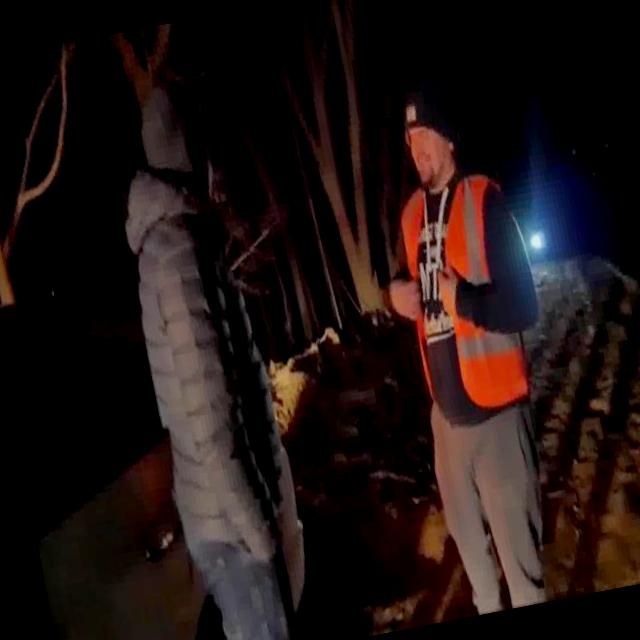vest: (388, 170, 543, 424)
